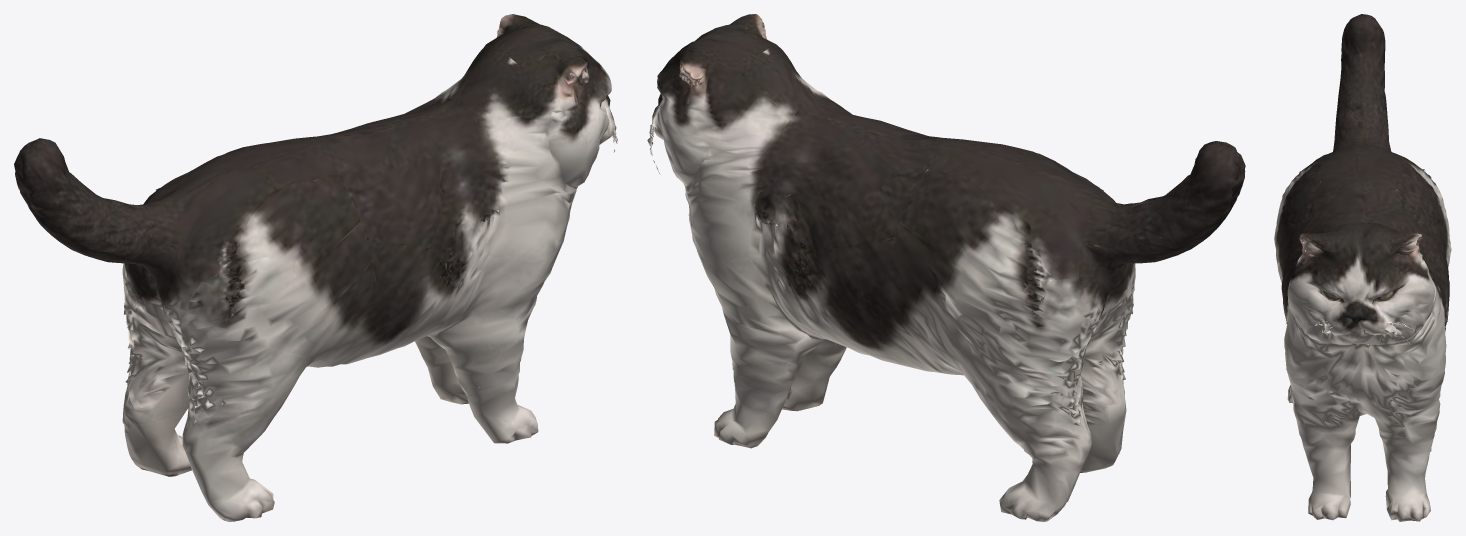
Rendered from NEKOSAMA-lo.glb.
3 views of the same model, side by side, from view 1: azimuth 30°, elevation 25°; view 2: azimuth 150°, elevation 25°; view 3: azimuth 270°, elevation 25° (orthographic). The views are drawn at different scales.
Parts seen in each view (by area): view 1: tripo_node_c4448392-6746-4f2e-be38-5e0eb383d991; view 2: tripo_node_c4448392-6746-4f2e-be38-5e0eb383d991; view 3: tripo_node_c4448392-6746-4f2e-be38-5e0eb383d991.
Boxes of the visible parts, box(x1,y1,x2,y2) form: tripo_node_c4448392-6746-4f2e-be38-5e0eb383d991: box(14, 14, 617, 521); tripo_node_c4448392-6746-4f2e-be38-5e0eb383d991: box(647, 14, 1245, 521); tripo_node_c4448392-6746-4f2e-be38-5e0eb383d991: box(1274, 14, 1451, 521).
Size of the model in its own units: 1.57 by 0.9978 by 0.5009.
1 material, 1 textured.
